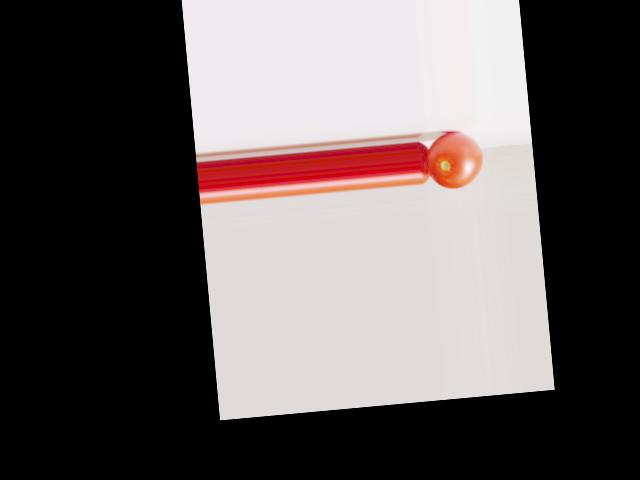tomato: (424, 130, 485, 190)
